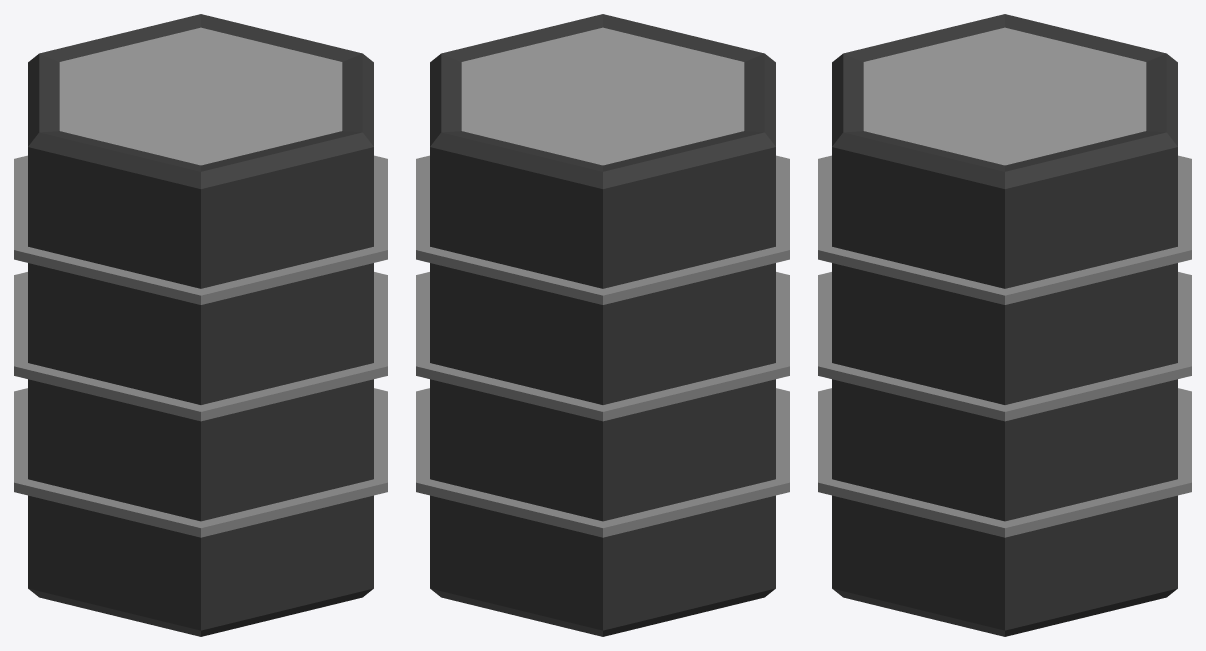
Rendered from barrel_A.FBX.
3 renders of one model, left to right at view 1: azimuth 30°, elevation 25°; view 2: azimuth 150°, elevation 25°; view 3: azimuth 270°, elevation 25°, orthographic.
Parts seen in each view (by area): view 1: barrel_A; view 2: barrel_A; view 3: barrel_A.
Boxes of the visible parts, <box> form: barrel_A: <box>14,14,387,636</box>; barrel_A: <box>416,14,789,636</box>; barrel_A: <box>818,14,1191,636</box>.
Size of the model in its own units: 44.64 by 53.08 by 38.66.
